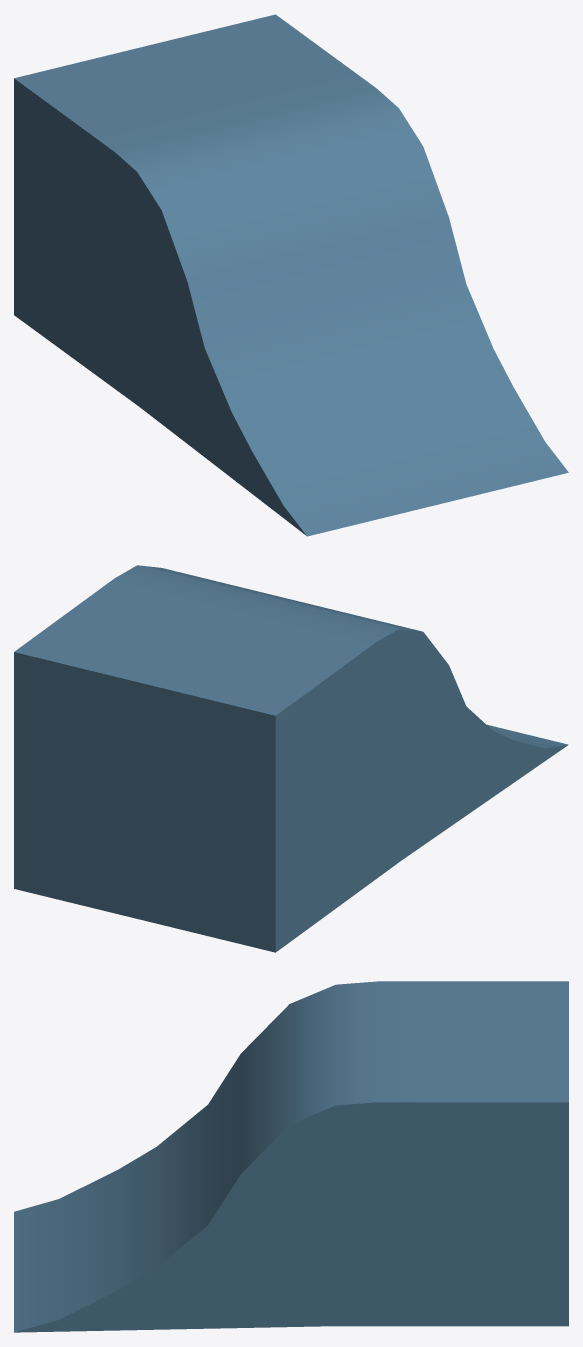
File: Ramp.fbx
3 views of the same model, one above another, from view 1: azimuth 30°, elevation 25°; view 2: azimuth 150°, elevation 25°; view 3: azimuth 270°, elevation 25° (orthographic). The views are drawn at different scales.
Visible parts, largest first — view 1: Ramp; view 2: Ramp; view 3: Ramp.
Boxes of the visible parts, x1,y1,x2,y2 form: Ramp: (14,14,568,536); Ramp: (14,565,568,952); Ramp: (14,981,568,1332).
Size of the model in its own units: 200 by 178 by 388.
